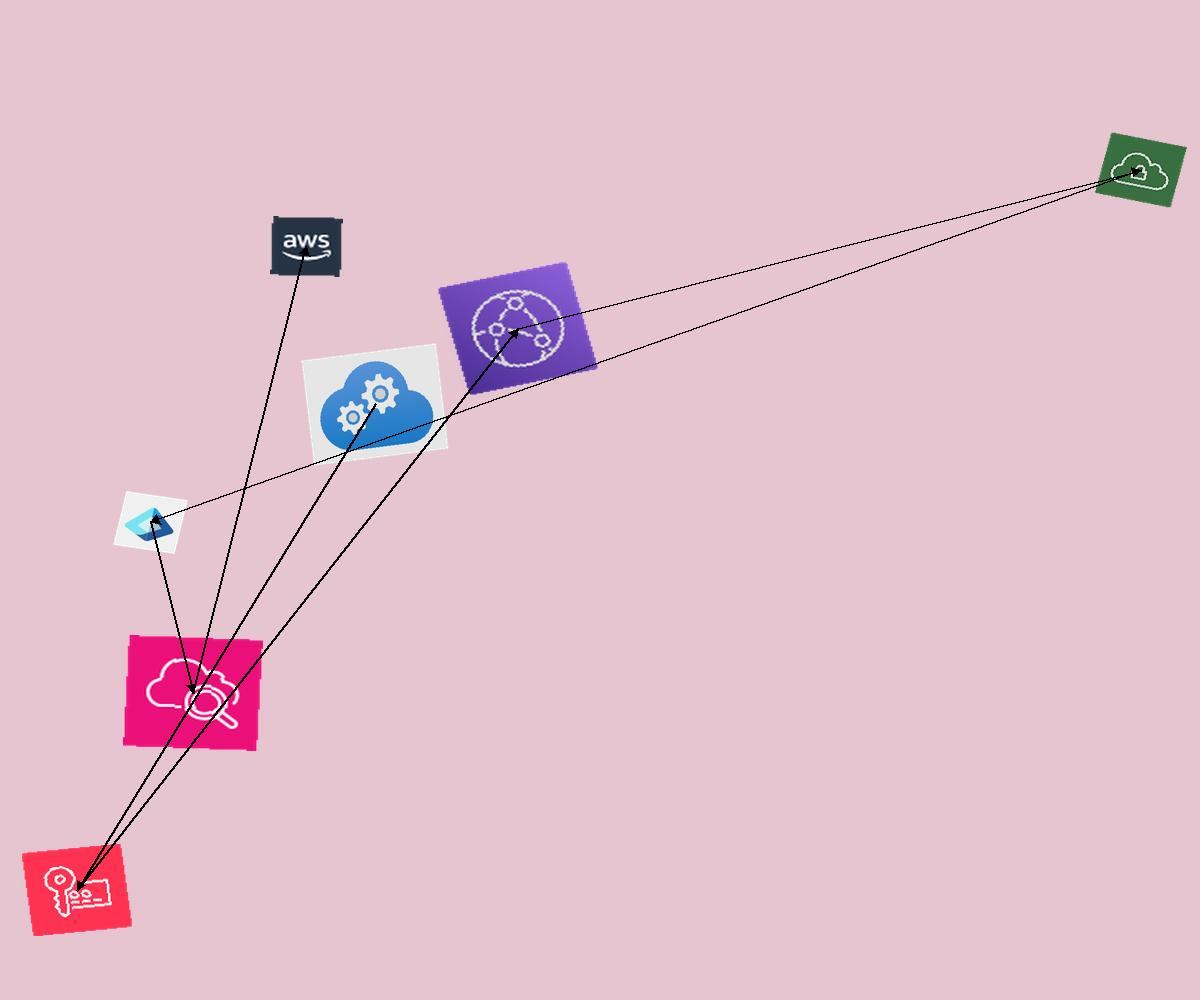AWS-Cloud-logo: (270, 216, 343, 277)
AWS-CloudFront: (437, 261, 599, 396)
AWS-CloudWatch: (123, 635, 263, 751)
AWS-Key-Management-Service: (21, 843, 133, 937)
AWS-Private_vpc: (1095, 132, 1187, 208)
Azure_cloud_services: (301, 343, 449, 466)
Azure_microsoft_entra: (113, 491, 188, 554)
